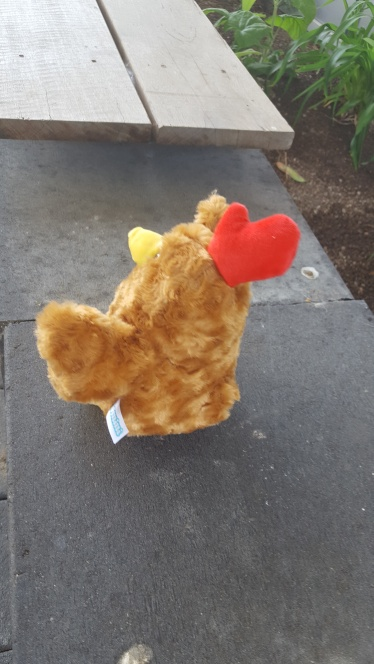chicken_right: (36, 188, 300, 444)
